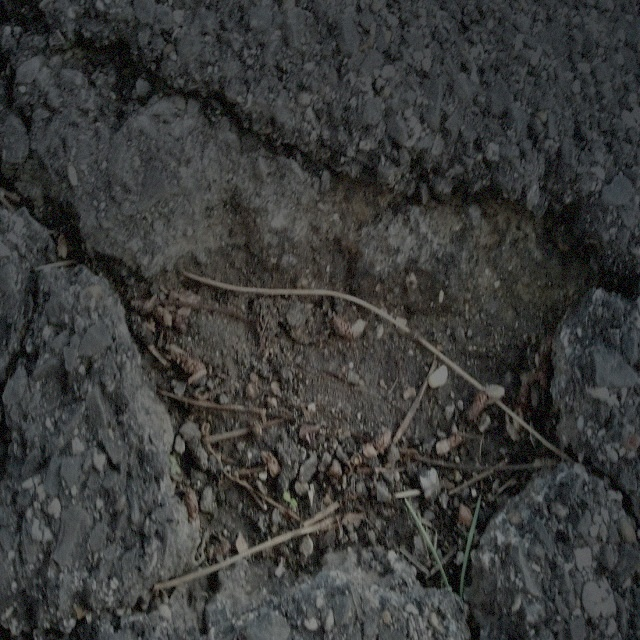pothole: (121, 149, 602, 598)
